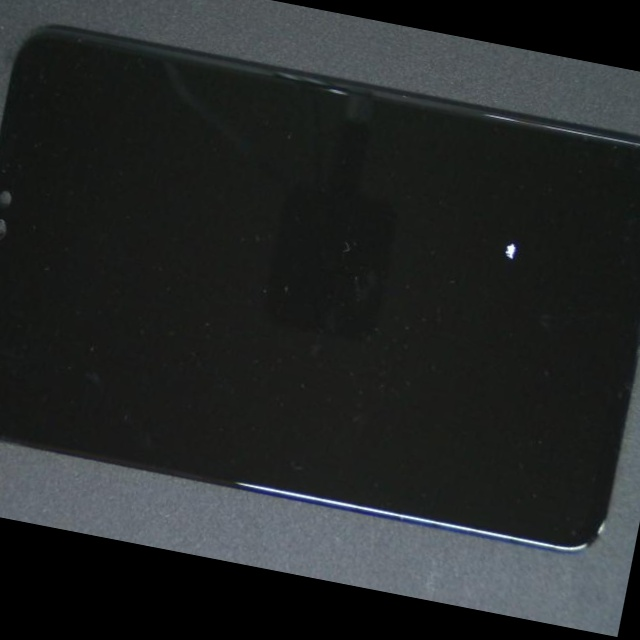stain: (225, 67, 640, 354)
